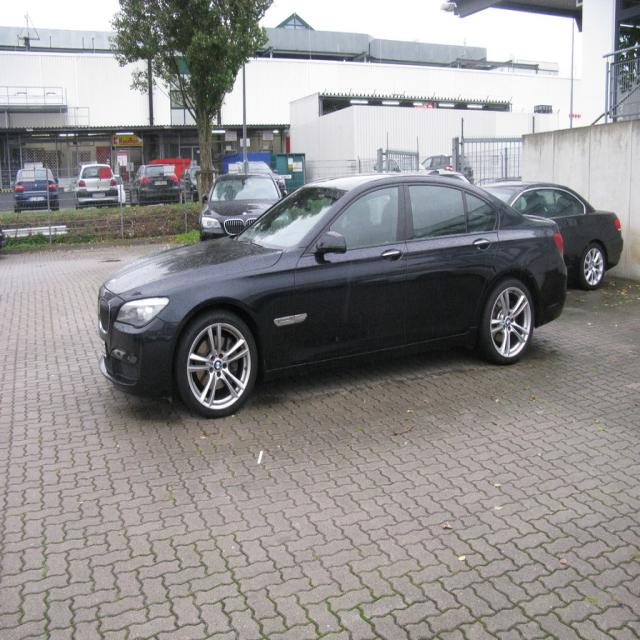car: (92, 166, 622, 417), (10, 164, 60, 208), (72, 159, 117, 203), (130, 168, 180, 199)
